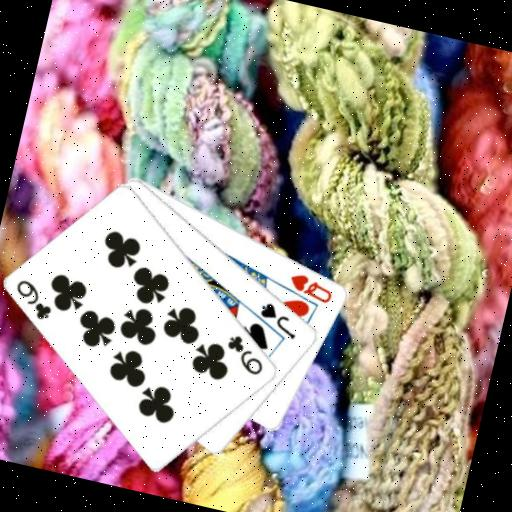9C: (219, 330, 272, 379), (8, 275, 60, 324)
JS: (253, 298, 304, 342)
QH: (285, 268, 338, 306)
